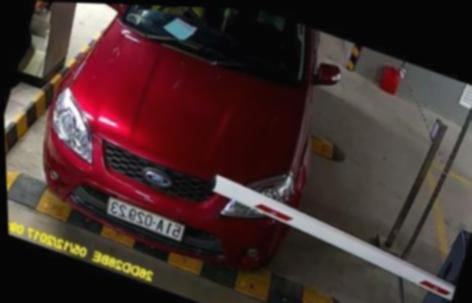License_Plate: (102, 198, 189, 247)
